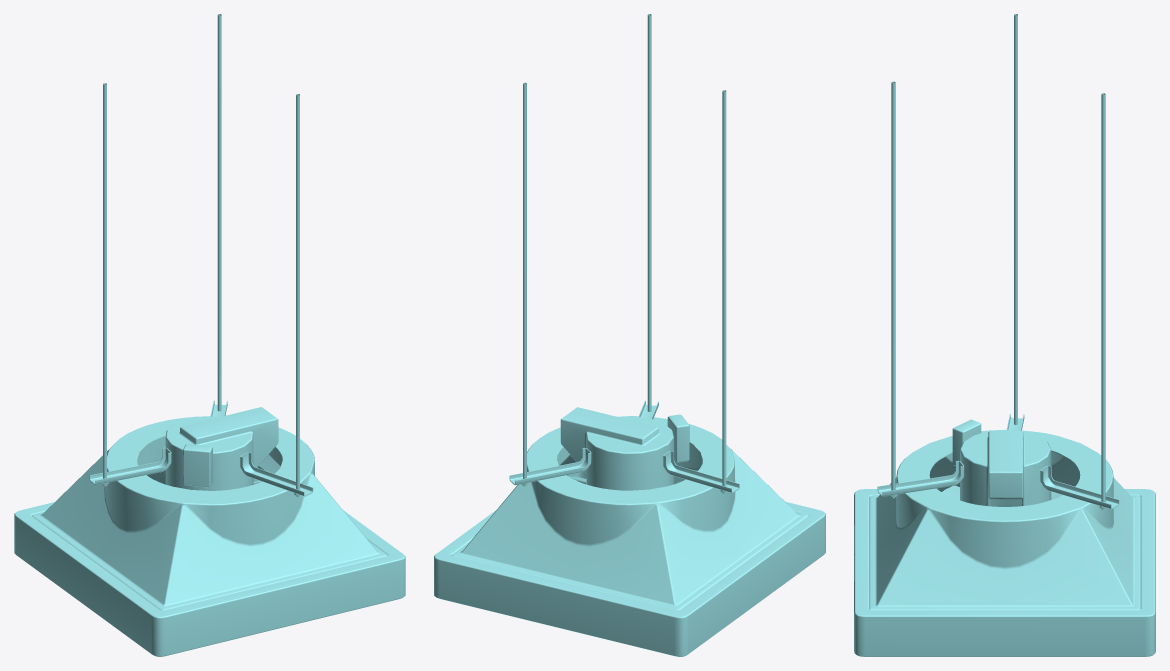
Rendered from Fan_A.glb.
3 renders of one model, left to right at view 1: azimuth 30°, elevation 25°; view 2: azimuth 150°, elevation 25°; view 3: azimuth 270°, elevation 25°, orthographic. The views are drawn at different scales.
Parts seen in each view (by area): view 1: Fan_01; view 2: Fan_01; view 3: Fan_01.
Part boxes in pixels (x1=…): Fan_01: x1=14, y1=14, x2=405, y2=656; Fan_01: x1=434, y1=14, x2=825, y2=656; Fan_01: x1=854, y1=14, x2=1155, y2=656.
Bounding box in the file's own units: 1.61 × 3.12 × 1.61.
